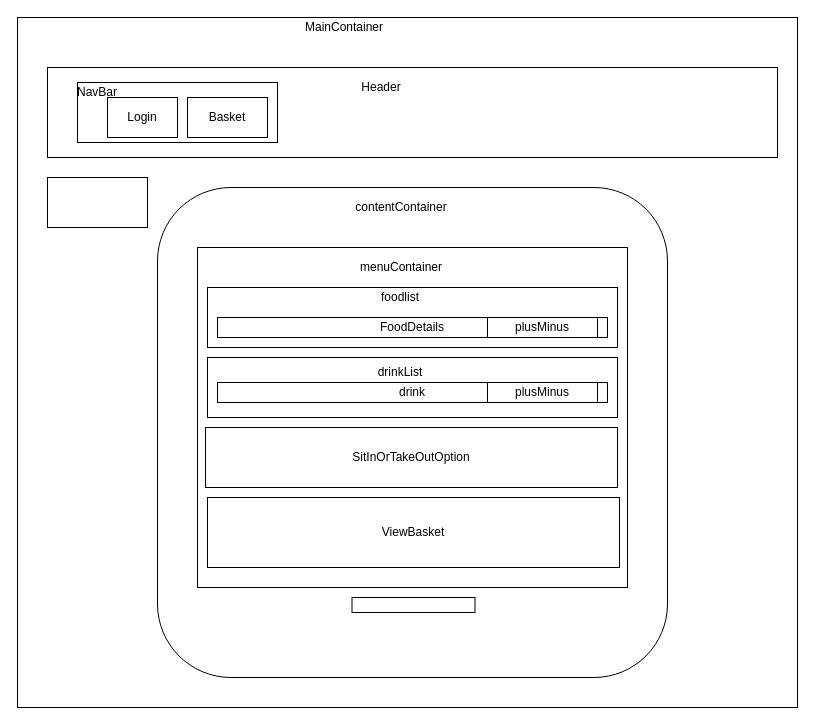
Some shapes in this 815 by 725 pixel diagram are drawn without their labels. Here are the shapes that lost their labels. From the top down, the box of each, then its label:
(46, 176, 148, 228): OrderDetails
(351, 596, 475, 612): accountDetails
